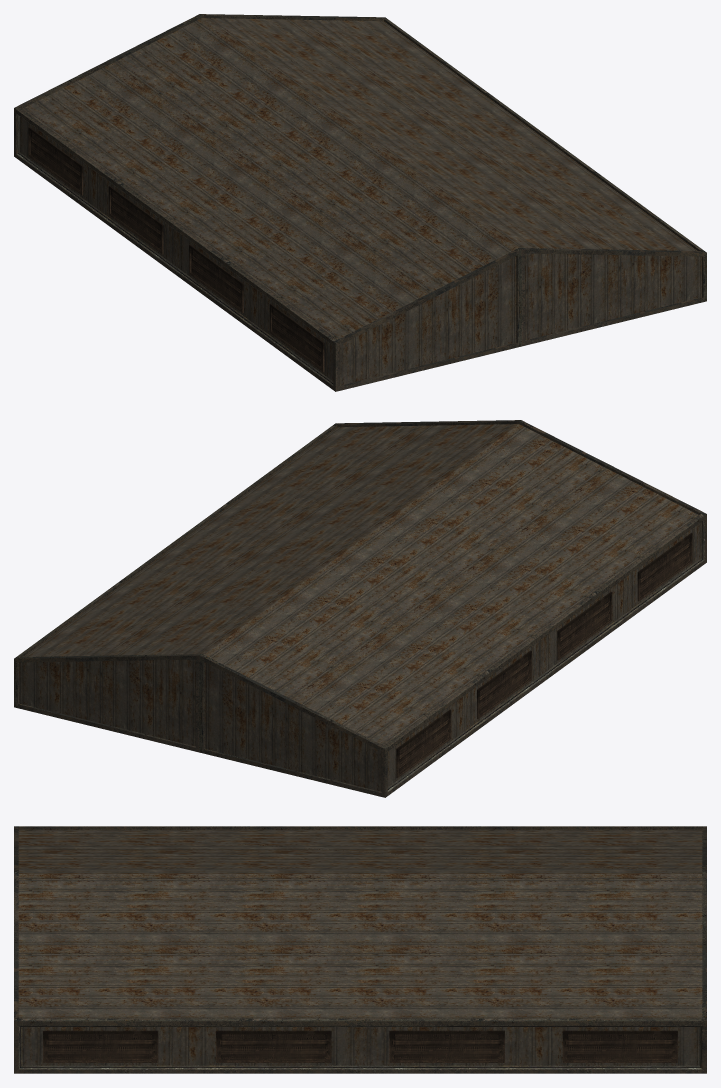
File: roof_mh_4_b_3.glb
3 views of the same model, one above another, from view 1: azimuth 30°, elevation 25°; view 2: azimuth 150°, elevation 25°; view 3: azimuth 270°, elevation 25° (orthographic). The views are drawn at different scales.
Visible parts, largest first — view 1: roof_mh_4_b_3; view 2: roof_mh_4_b_3; view 3: roof_mh_4_b_3.
Boxes of the visible parts, x1=… form: roof_mh_4_b_3: x1=14, y1=14, x2=706, y2=391; roof_mh_4_b_3: x1=14, y1=420, x2=706, y2=797; roof_mh_4_b_3: x1=14, y1=826, x2=706, y2=1073.
Bounding box in the file's own units: 8 × 2 × 12.
6 materials, 6 textured.
